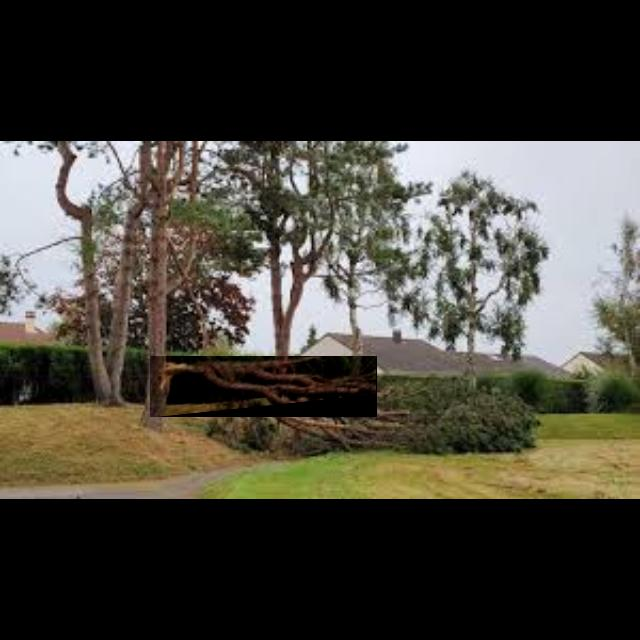Fallen Tree: (150, 356, 378, 418)
